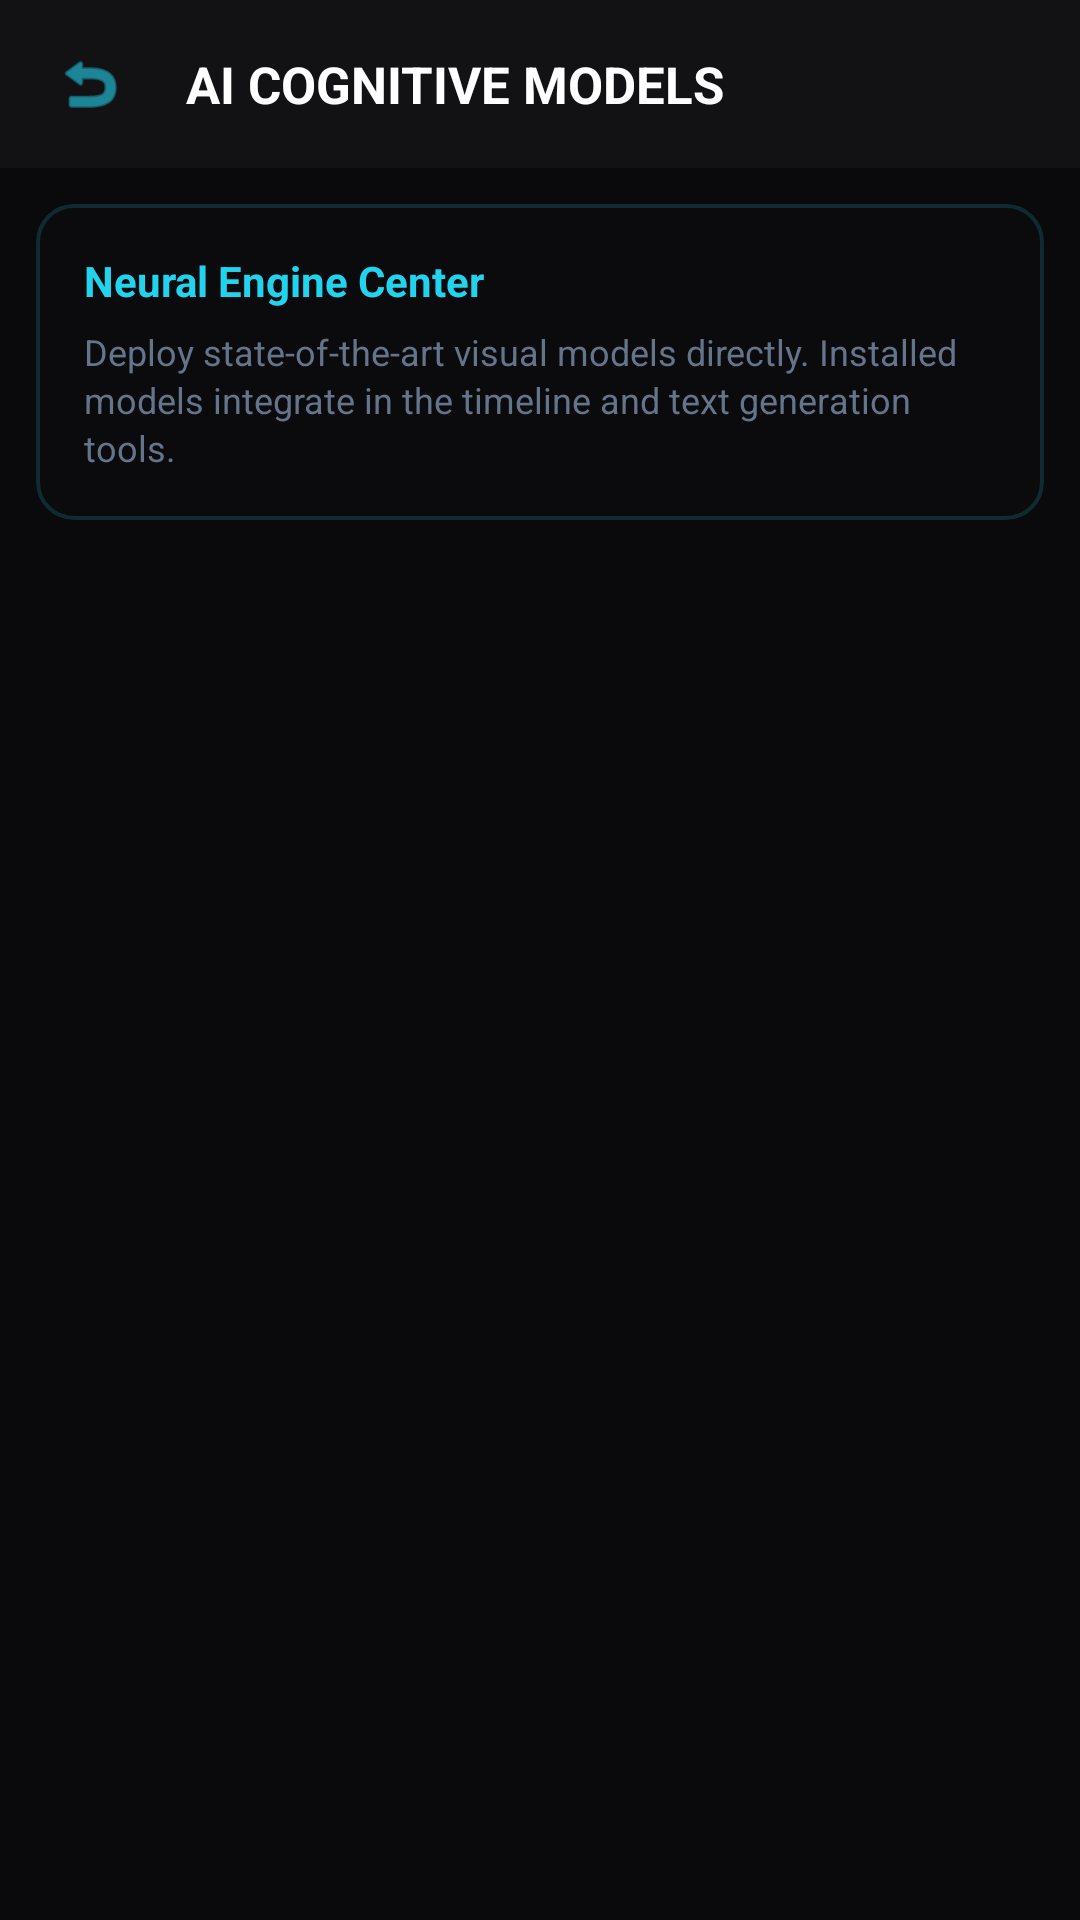

Named icons in this screenshot (1080 x 1920) and their centers, point (x, y):
Go Back: point (91, 84)
